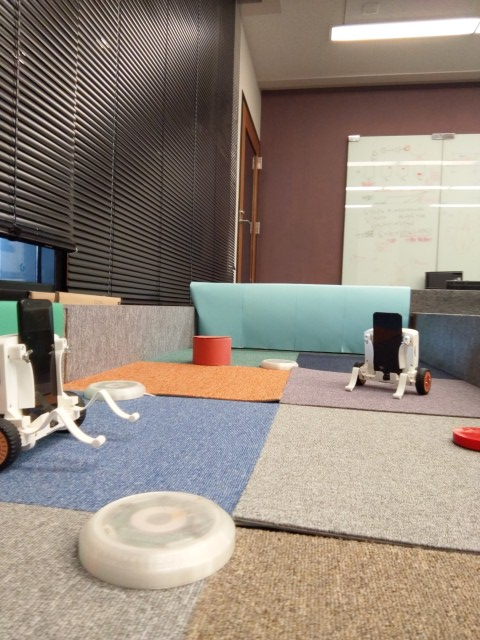br: (1, 293, 142, 473)
f: (348, 307, 434, 401)
o: (71, 485, 239, 591), (82, 375, 148, 404), (256, 355, 302, 373)
